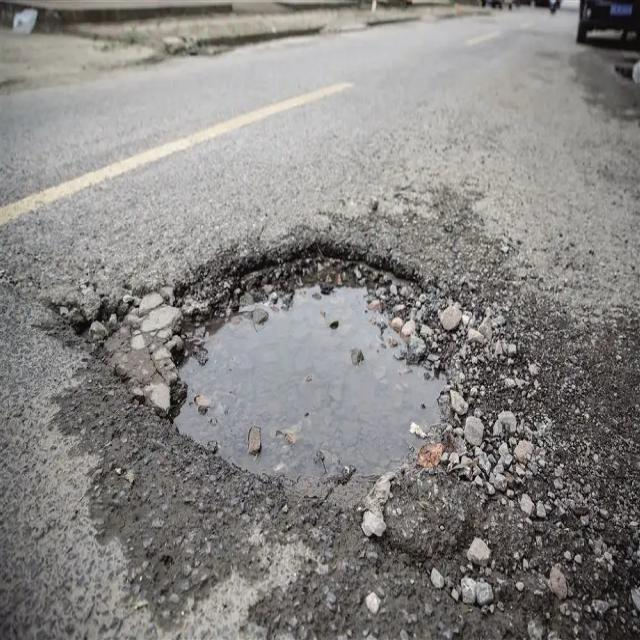Pothole: (69, 238, 524, 559)
